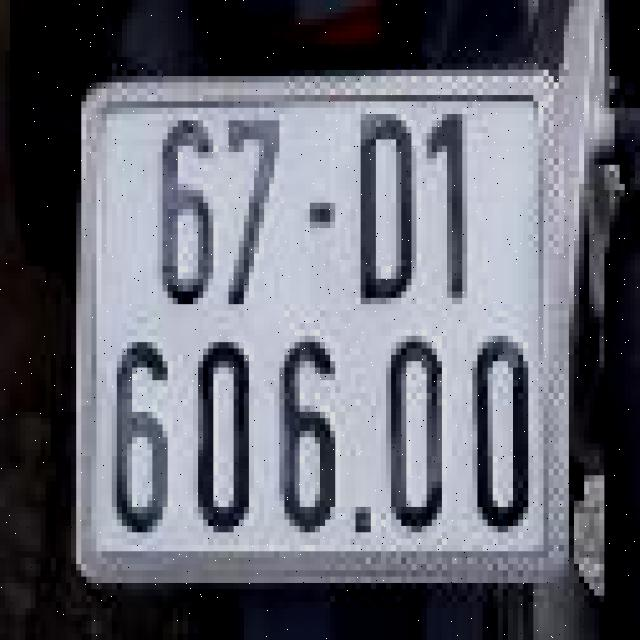0: (467, 314, 554, 548), (371, 317, 452, 532), (190, 323, 262, 545)
1: (419, 98, 485, 320)
6: (267, 314, 353, 548), (102, 333, 188, 548), (145, 95, 226, 311)
7: (211, 92, 297, 314)
D: (343, 92, 434, 333)
